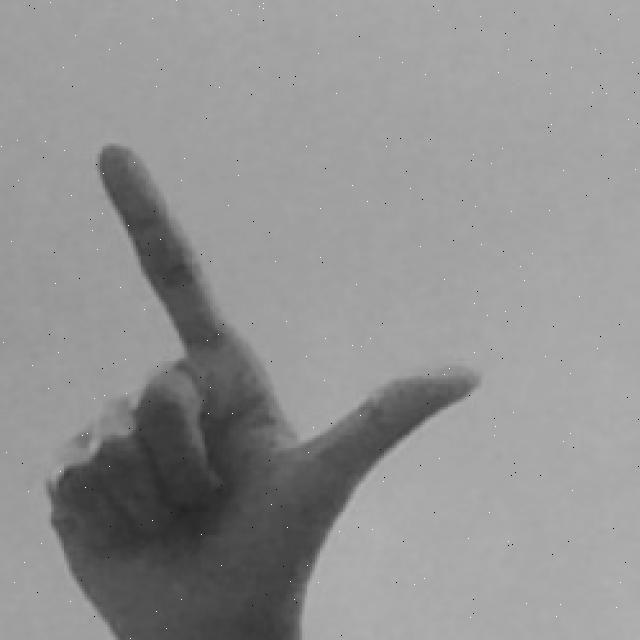L: (38, 135, 489, 640)
